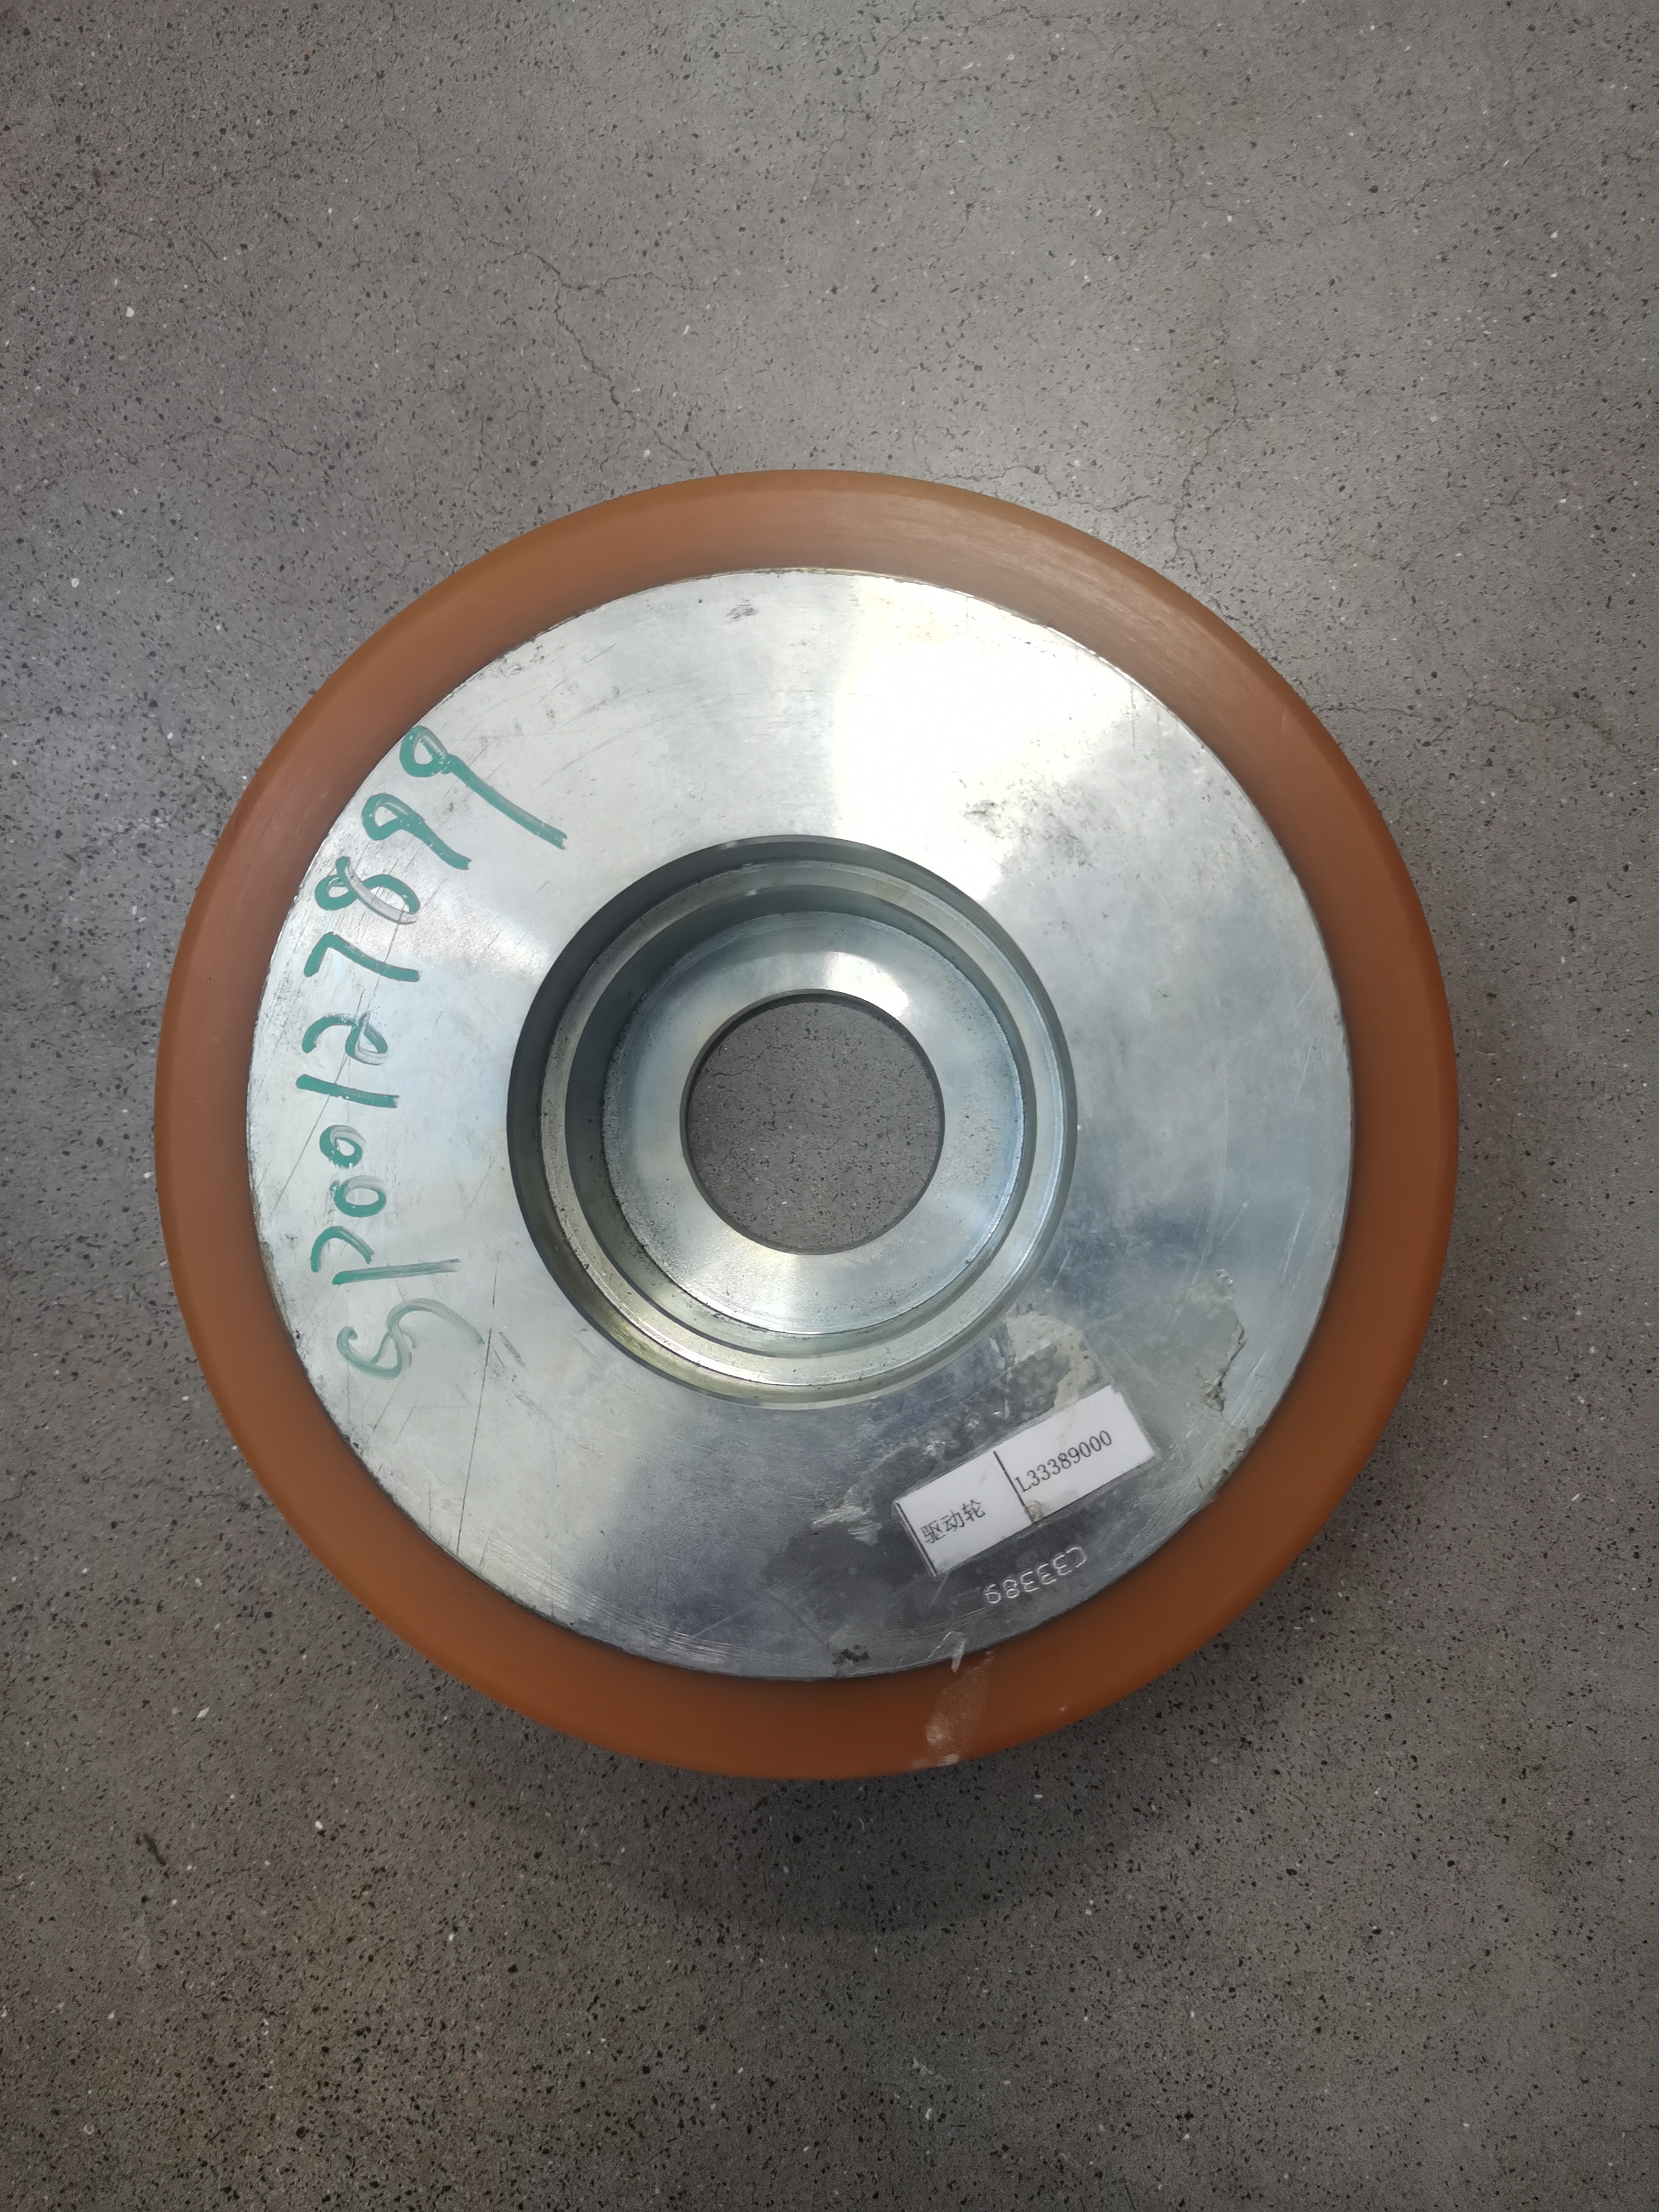good_wheel: (185, 381, 1520, 1801)
